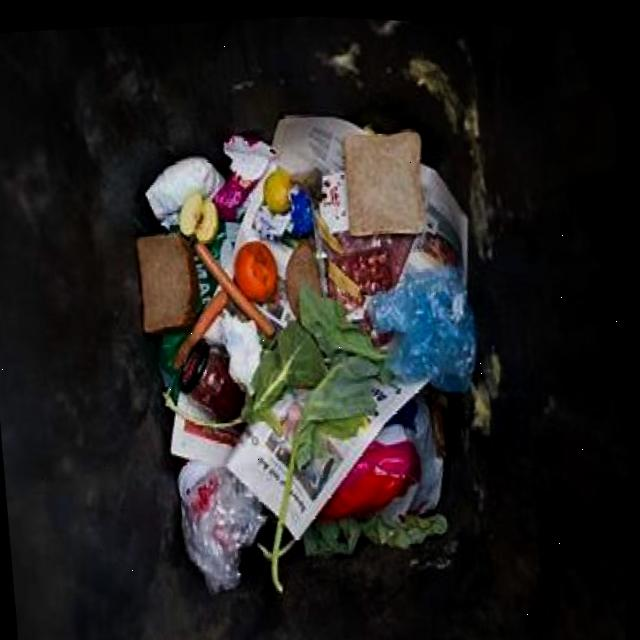Garbage: (136, 111, 479, 589)
Glass_bottle: (182, 337, 246, 417)
Plastic: (369, 261, 478, 387), (180, 459, 267, 589), (214, 168, 255, 216), (196, 251, 217, 304), (210, 219, 225, 256)
Tetrapack: (287, 160, 468, 306)
Thermocol: (206, 305, 263, 390), (225, 132, 274, 178)
can: (320, 418, 421, 514)
